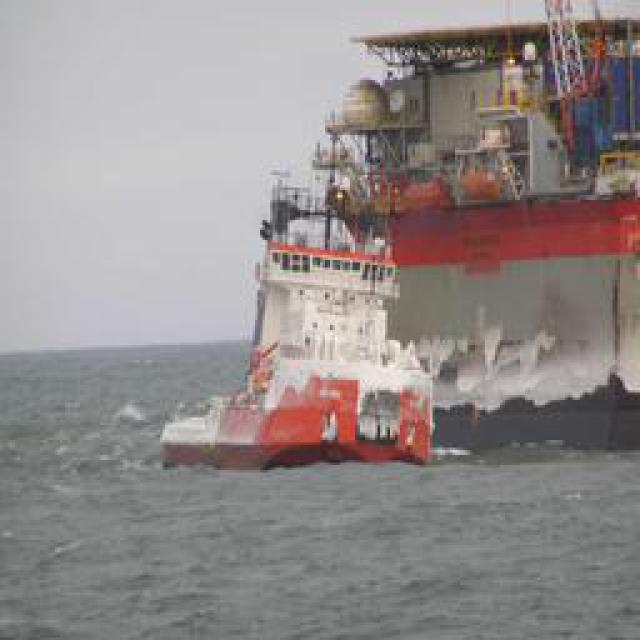Ship: (136, 193, 444, 471)
